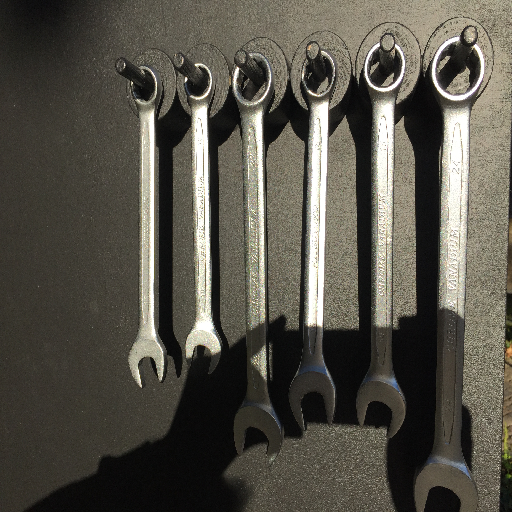bottom: (410, 450, 483, 512), (287, 361, 338, 437), (353, 371, 407, 441), (233, 400, 284, 468), (126, 332, 168, 391), (184, 322, 225, 378)
top: (427, 35, 487, 107), (361, 37, 408, 99), (231, 53, 275, 116), (299, 48, 337, 104), (127, 64, 164, 111), (181, 62, 217, 107)
